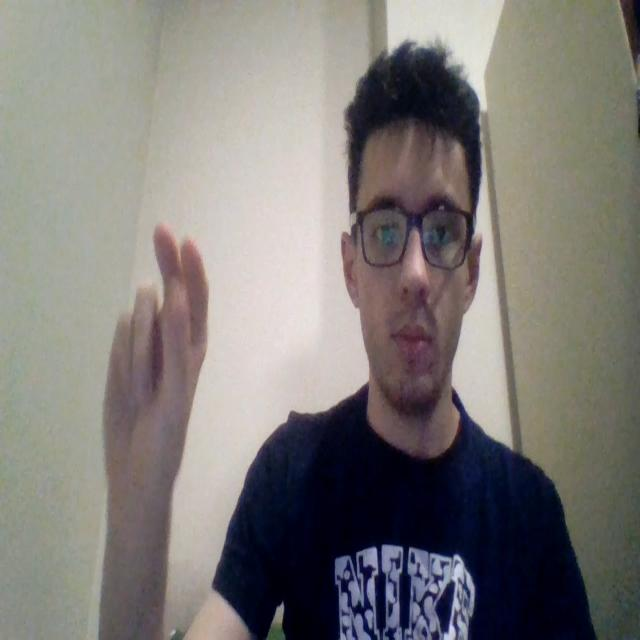no: (97, 219, 213, 512)
